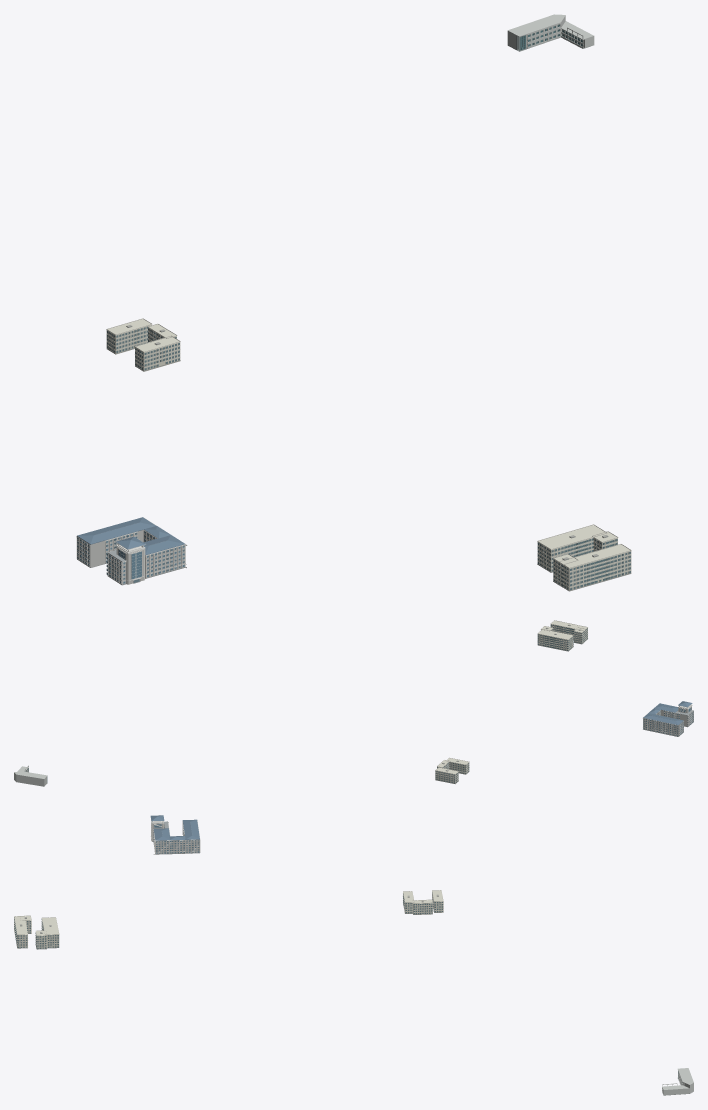
Rendered from SEU_FACULTY_RESTORED_v03.glb.
The picture shows the model from 3 angles, top to bottom: view 1: azimuth 30°, elevation 25°; view 2: azimuth 150°, elevation 25°; view 3: azimuth 270°, elevation 25°; orthographic projection. The views are drawn at different scales.
Visible parts, largest first — view 1: SEU_B_OSMWAY_299961609__RESTORED_023, SEU_B_OSMWAY_300010611__RESTORED_008, SEU_B_OSMWAY_299961623__RESTORED_024, SEU_B_OSMWAY_300010611__RESTORED_006, SEU_B_OSMWAY_300030319__RESTORED_006, SEU_B_OSMWAY_300030319__RESTORED_005, SEU_B_OSMWAY_300010611__RESTORED_011, SEU_B_OSMWAY_299961609__RESTORED_007; view 2: SEU_B_OSMWAY_299961623__RESTORED_024, SEU_B_OSMWAY_300010611__RESTORED_010, SEU_B_OSMWAY_300010611__RESTORED_005, SEU_B_OSMWAY_299961623__RESTORED_008, SEU_B_OSMWAY_299961609__RESTORED_023, SEU_B_OSMWAY_300030319__RESTORED_005; view 3: no part large enough to name.
Part boxes in pixels (bbox=[...]): SEU_B_OSMWAY_299961609__RESTORED_023: bbox=[562, 544, 631, 590]; SEU_B_OSMWAY_300010611__RESTORED_008: bbox=[106, 544, 185, 584]; SEU_B_OSMWAY_299961623__RESTORED_024: bbox=[537, 525, 604, 571]; SEU_B_OSMWAY_300010611__RESTORED_006: bbox=[107, 545, 185, 584]; SEU_B_OSMWAY_300030319__RESTORED_006: bbox=[135, 336, 180, 370]; SEU_B_OSMWAY_300030319__RESTORED_005: bbox=[106, 319, 151, 353]; SEU_B_OSMWAY_300010611__RESTORED_011: bbox=[77, 517, 155, 544]; SEU_B_OSMWAY_299961609__RESTORED_007: bbox=[563, 551, 630, 590]; SEU_B_OSMWAY_299961623__RESTORED_024: bbox=[537, 629, 573, 650]; SEU_B_OSMWAY_300010611__RESTORED_010: bbox=[643, 718, 683, 736]; SEU_B_OSMWAY_300010611__RESTORED_005: bbox=[643, 719, 683, 736]; SEU_B_OSMWAY_299961623__RESTORED_008: bbox=[537, 634, 573, 650]; SEU_B_OSMWAY_299961609__RESTORED_023: bbox=[551, 620, 587, 639]; SEU_B_OSMWAY_300030319__RESTORED_005: bbox=[435, 767, 458, 783].
Bounding box in the file's own units: 975 × 39.92 × 1069.
